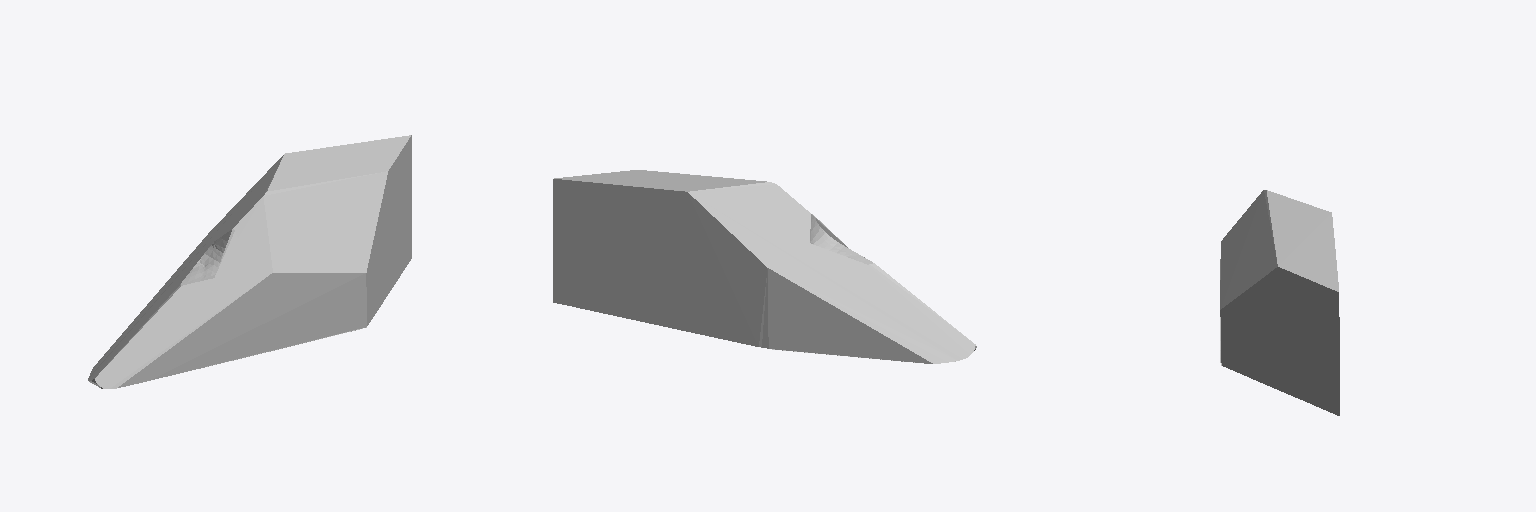
File: low_cell_057.obj
The picture shows the model from 3 angles: view 1: azimuth 30°, elevation 25°; view 2: azimuth 150°, elevation 25°; view 3: azimuth 270°, elevation 25°; orthographic projection.
Visible parts, largest first — view 1: low_cell.057_low_cell.056; view 2: low_cell.057_low_cell.056; view 3: low_cell.057_low_cell.056.
Boxes of the visible parts, box(x1,y1,x2,y2) form: low_cell.057_low_cell.056: box(88, 135, 411, 388); low_cell.057_low_cell.056: box(553, 170, 976, 363); low_cell.057_low_cell.056: box(1220, 190, 1339, 415).
Size of the model in its own units: 1.16 by 0.4177 by 0.3227.